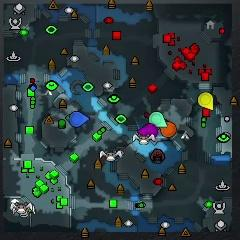p1: (69, 112, 89, 128)
p2: (149, 112, 167, 128)
p3: (137, 123, 158, 137)
p4: (198, 92, 214, 112)
p5: (160, 120, 176, 138)
